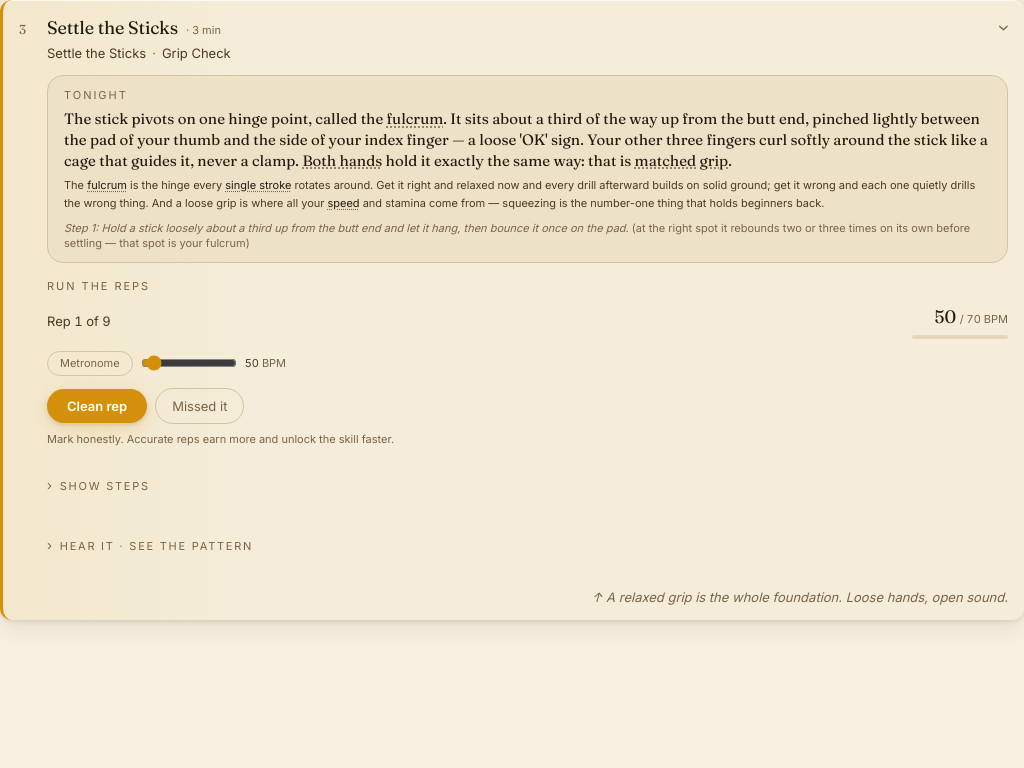
Test: ChainDrillSlot — drums shows the RhythmGrid, no progression/pentatonic › has no tonal 'Hear the Loop' / 'Hear Pentatonic', and shows the sticking pattern
The image size is (1024, 768).
Note: The drums disclosure is "see the pattern", not "see the shape".
What coordinates should you click on to do the following:
click the button "› Hear it · see the pattern"
I would click on:
 (150, 546)
Its box is [47,524,253,568].
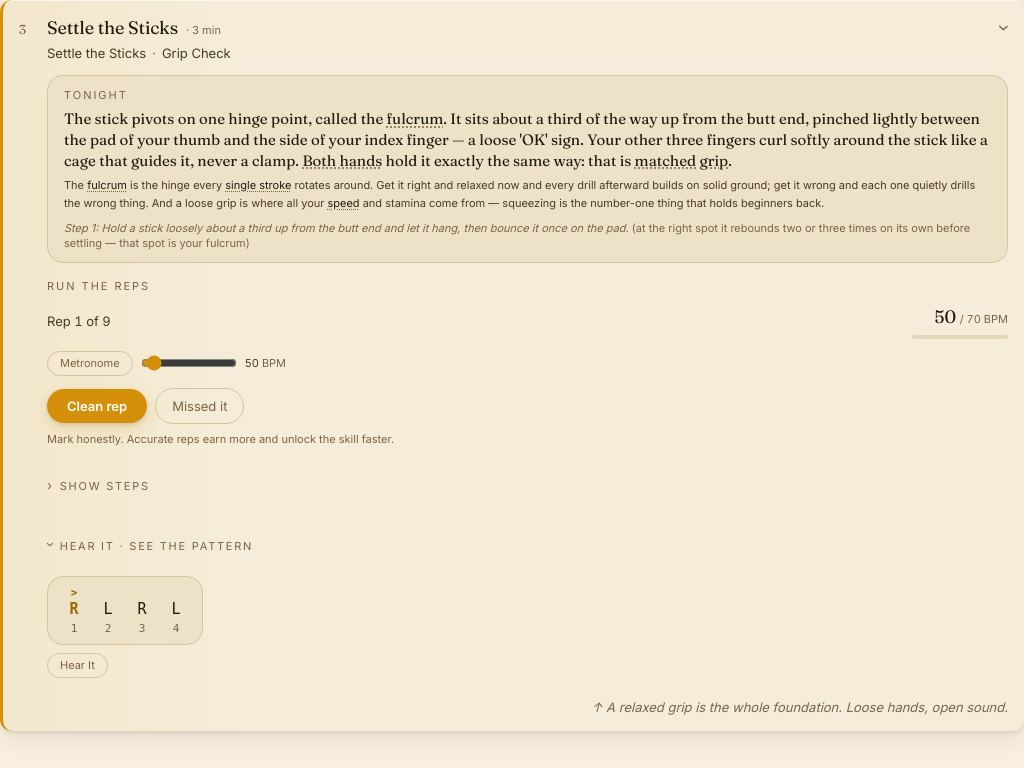
expect the picture with test id "rhythm-grid" is shown: met, box [47,576,203,645]
expect the button "Hear It" is shown: met, box [47,654,108,678]
